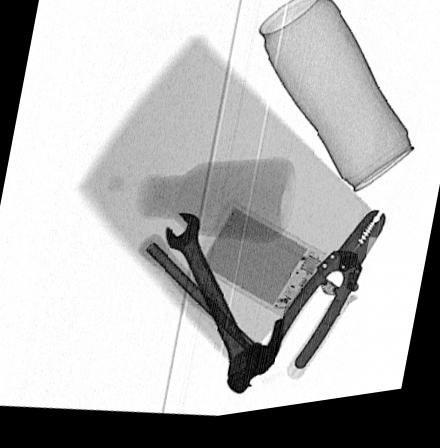Hammer: (138, 236, 286, 400)
Pliers: (253, 219, 387, 387)
Powerbank: (190, 203, 328, 328)
Wrench: (165, 217, 265, 397)
